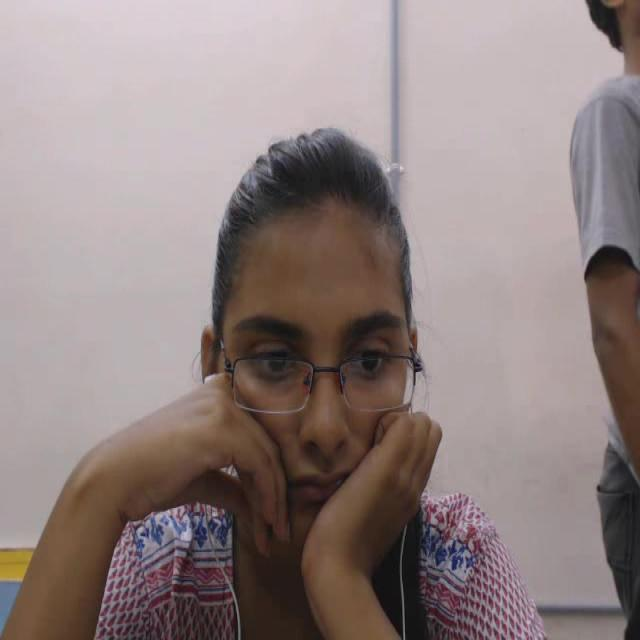Bored: (188, 110, 437, 570)
